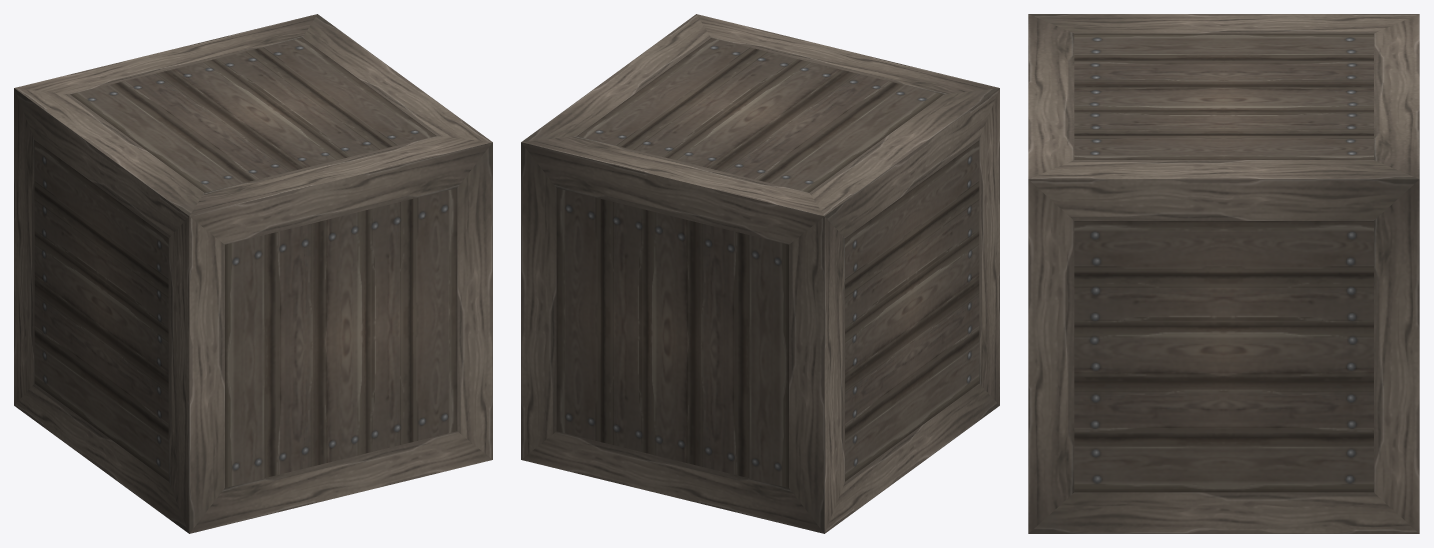
File: Crate_A.fbx
3 renders of one model, left to right at view 1: azimuth 30°, elevation 25°; view 2: azimuth 150°, elevation 25°; view 3: azimuth 270°, elevation 25°, orthographic. The views are drawn at different scales.
Visible parts, largest first — view 1: Crate_A; view 2: Crate_A; view 3: Crate_A.
Part boxes in pixels (x1=…): Crate_A: x1=14, y1=14, x2=492, y2=533; Crate_A: x1=521, y1=14, x2=999, y2=533; Crate_A: x1=1028, y1=14, x2=1419, y2=533.
Size of the model in its own units: 1 by 1 by 1.
